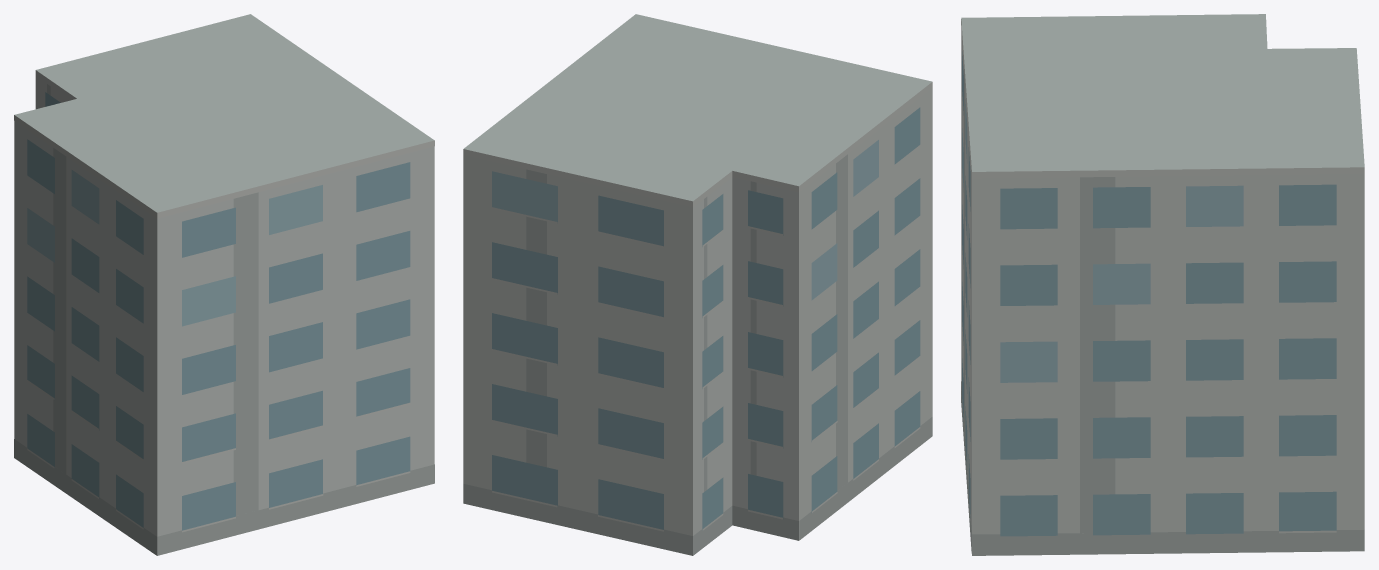
Rendered from survey-upis-32836718.glb.
The picture shows the model from 3 angles, left to right: view 1: azimuth 30°, elevation 25°; view 2: azimuth 150°, elevation 25°; view 3: azimuth 270°, elevation 25°; orthographic projection. The views are drawn at different scales.
Visible parts, largest first — view 1: survey-upis-32836718.tmp; view 2: survey-upis-32836718.tmp; view 3: survey-upis-32836718.tmp.
Part boxes in pixels (x1,y1,x2,y2): survey-upis-32836718.tmp: (14,14,434,555); survey-upis-32836718.tmp: (463,14,932,555); survey-upis-32836718.tmp: (961,14,1364,555).
Bounding box in the file's own units: 12.45 × 14.1 × 13.44.
